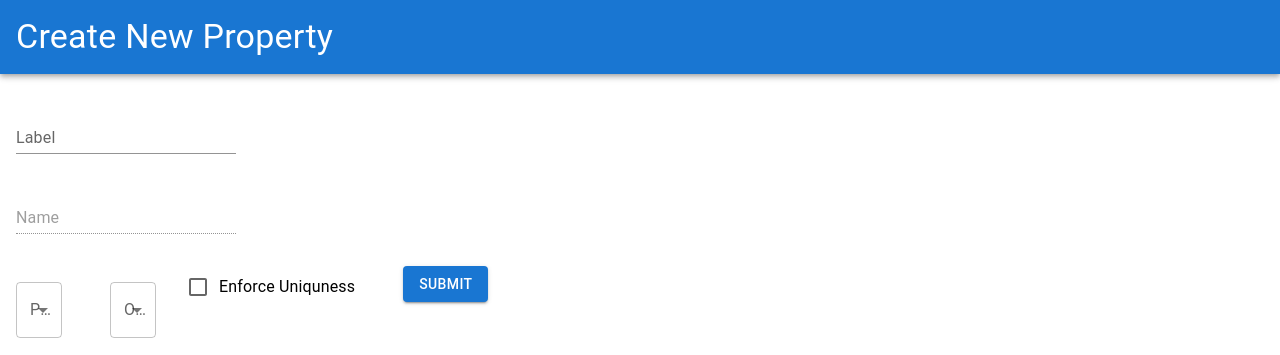
Test: PropertyEditor › updates property name based on label input
In the field labelled "Label": (126, 138) top-left (16, 122), bottom-right (236, 154), type "Test Property!"
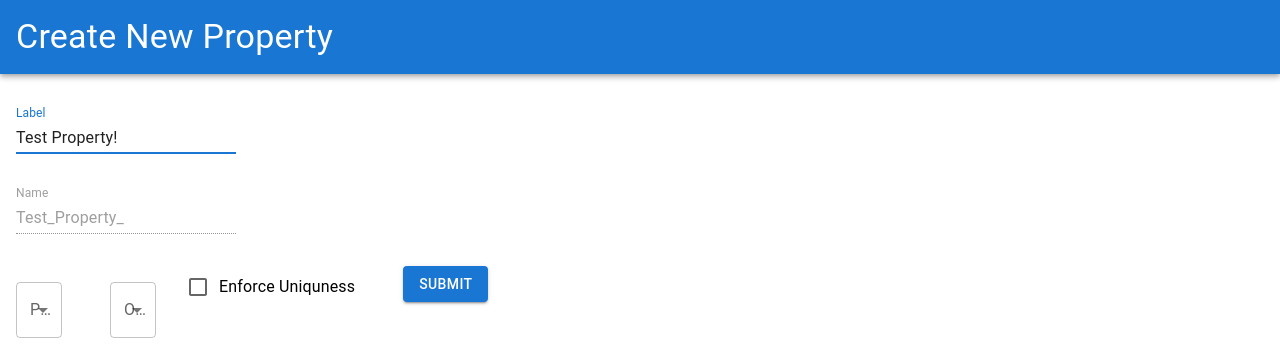
expect the field labelled "Name" holds "Test_Property_": met, box top-left (16, 202), bottom-right (236, 234)
